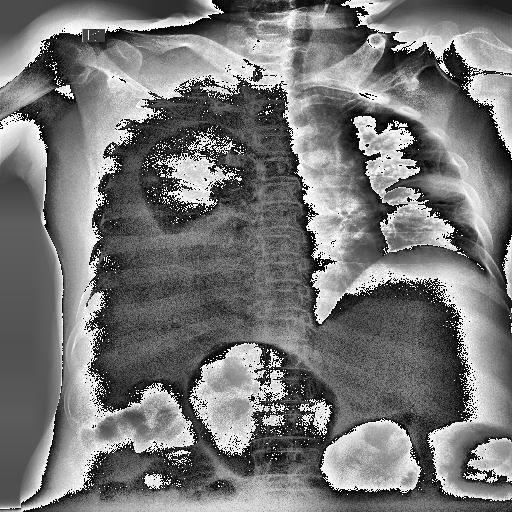10- Pleural effusion: (90, 69, 269, 348), (85, 86, 254, 324), (103, 80, 263, 313), (386, 172, 466, 198)
13- Pulmonary fibrosis: (384, 176, 424, 190)
4- Consolidation: (387, 170, 462, 198)
7- Lung Opacity: (140, 120, 246, 238), (144, 128, 244, 229), (142, 120, 230, 230), (386, 172, 466, 198), (413, 170, 469, 198)
8- Nodule-Mass: (413, 170, 469, 198)
